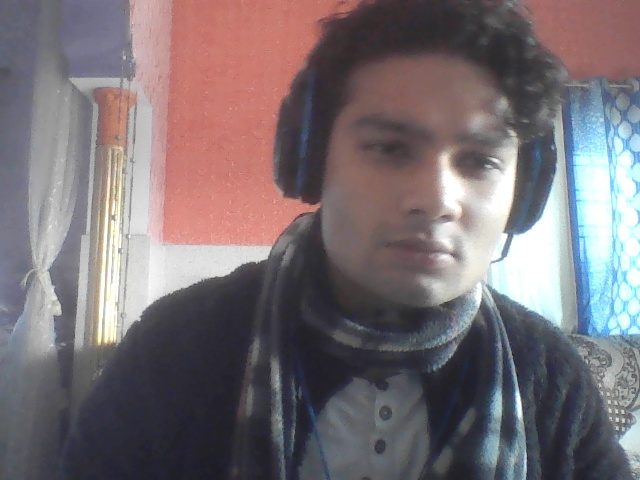real: (292, 0, 540, 351)
